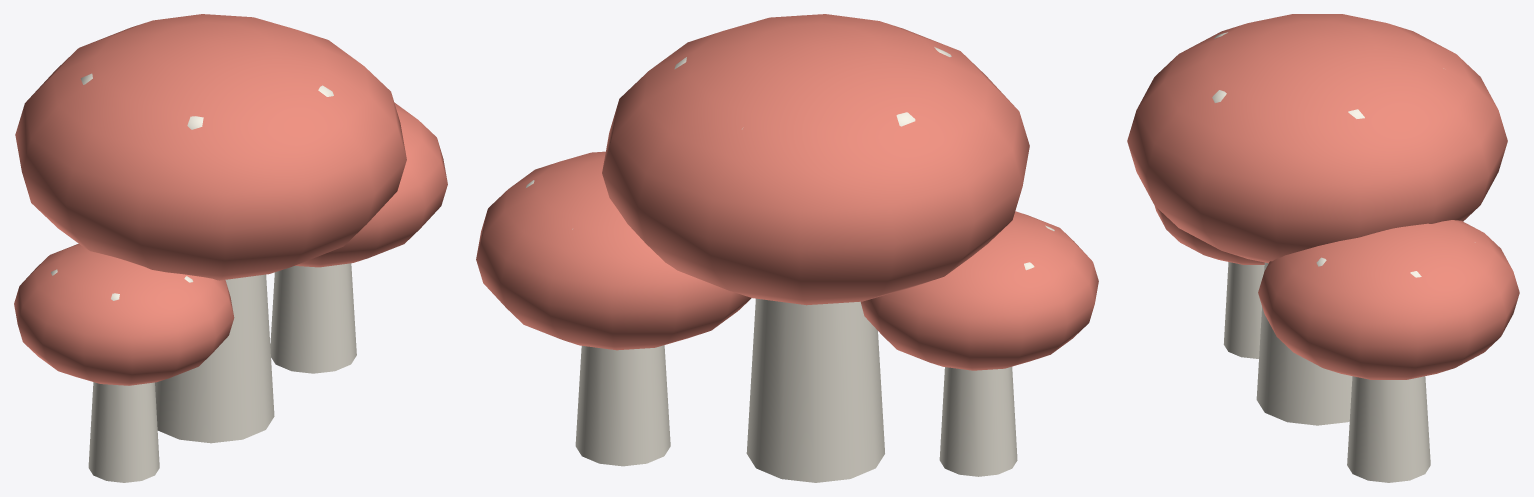
File: Pickup_Mushroom.fbx
3 renders of one model, left to right at view 1: azimuth 30°, elevation 25°; view 2: azimuth 150°, elevation 25°; view 3: azimuth 270°, elevation 25°, orthographic. The views are drawn at different scales.
Visible parts, largest first — view 1: Pickup_Mushroom; view 2: Pickup_Mushroom; view 3: Pickup_Mushroom.
Part boxes in pixels (x1,y1,x2,y2): Pickup_Mushroom: [14, 14, 447, 482]; Pickup_Mushroom: [476, 14, 1098, 482]; Pickup_Mushroom: [1127, 14, 1519, 482].
Size of the model in its own units: 43.5 by 33.28 by 33.
